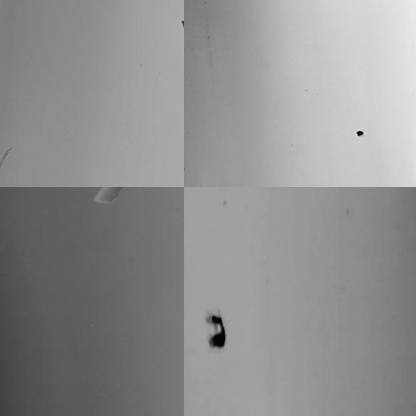kongdong: (202, 304, 231, 348)
sunshang: (88, 183, 118, 202)
